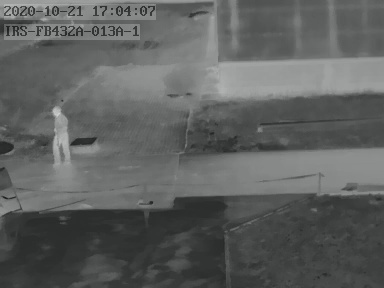person: (50, 105, 70, 163)
